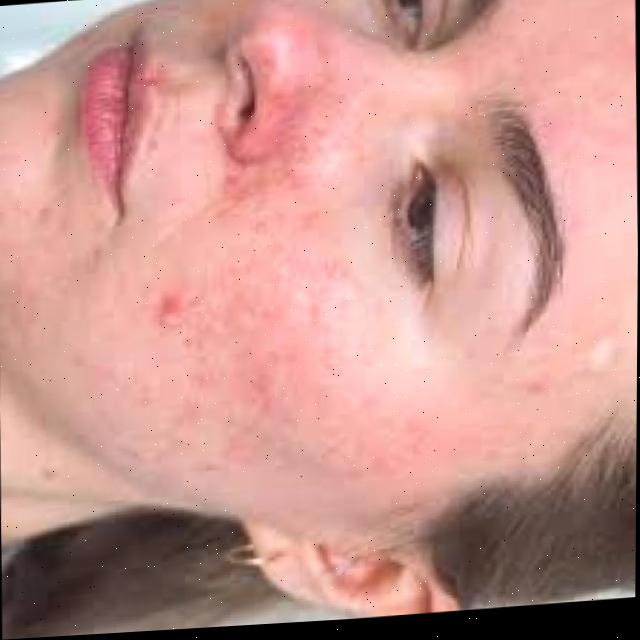Rosacea: (165, 89, 397, 461)
